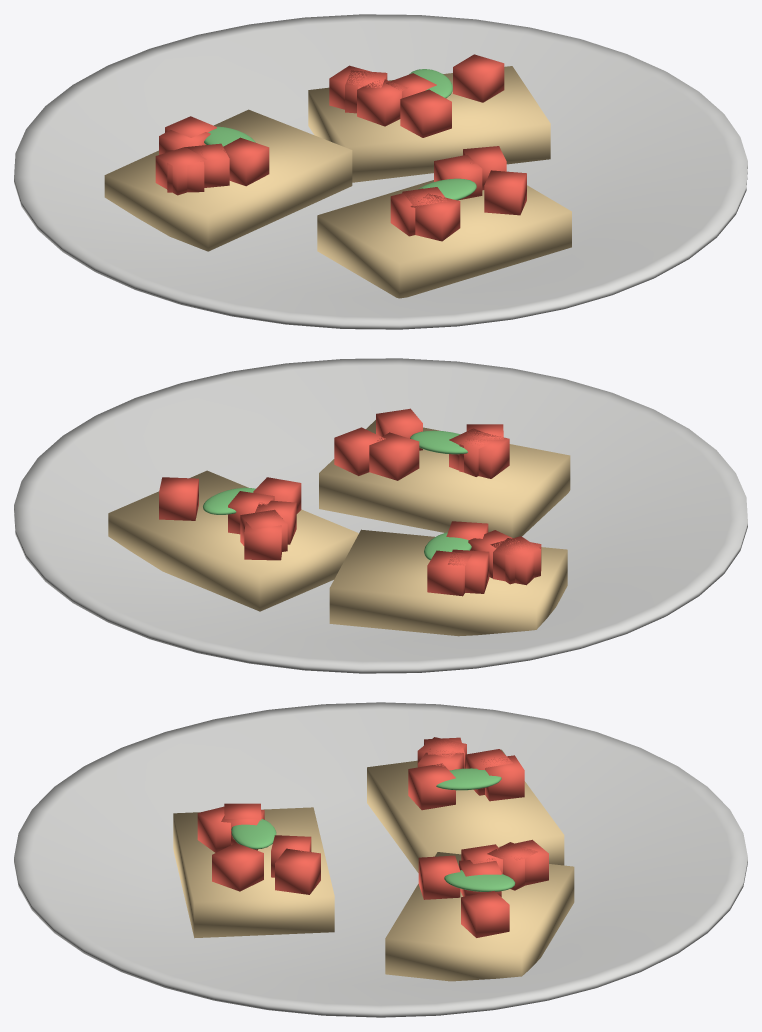
Rendered from bruschetta.glb.
The picture shows the model from 3 angles, top to bottom: view 1: azimuth 30°, elevation 25°; view 2: azimuth 150°, elevation 25°; view 3: azimuth 270°, elevation 25°; orthographic projection.
Parts seen in each view (by area): view 1: part0, part1, part2, part3; view 2: part0, part1, part2, part3; view 3: part0, part1, part2, part3.
Part boxes in pixels (bbox=[...]): part0: bbox=[14, 14, 747, 329]; part1: bbox=[104, 66, 571, 298]; part2: bbox=[155, 54, 526, 241]; part3: bbox=[204, 69, 476, 200]; part0: bbox=[14, 358, 747, 673]; part1: bbox=[108, 420, 570, 636]; part2: bbox=[159, 408, 541, 596]; part3: bbox=[203, 430, 471, 560]; part0: bbox=[14, 702, 747, 1017]; part1: bbox=[173, 749, 574, 981]; part2: bbox=[197, 737, 548, 937]; part3: bbox=[231, 768, 515, 891].
Bounding box in the file's own units: 0.26 × 0.0315 × 0.26.
